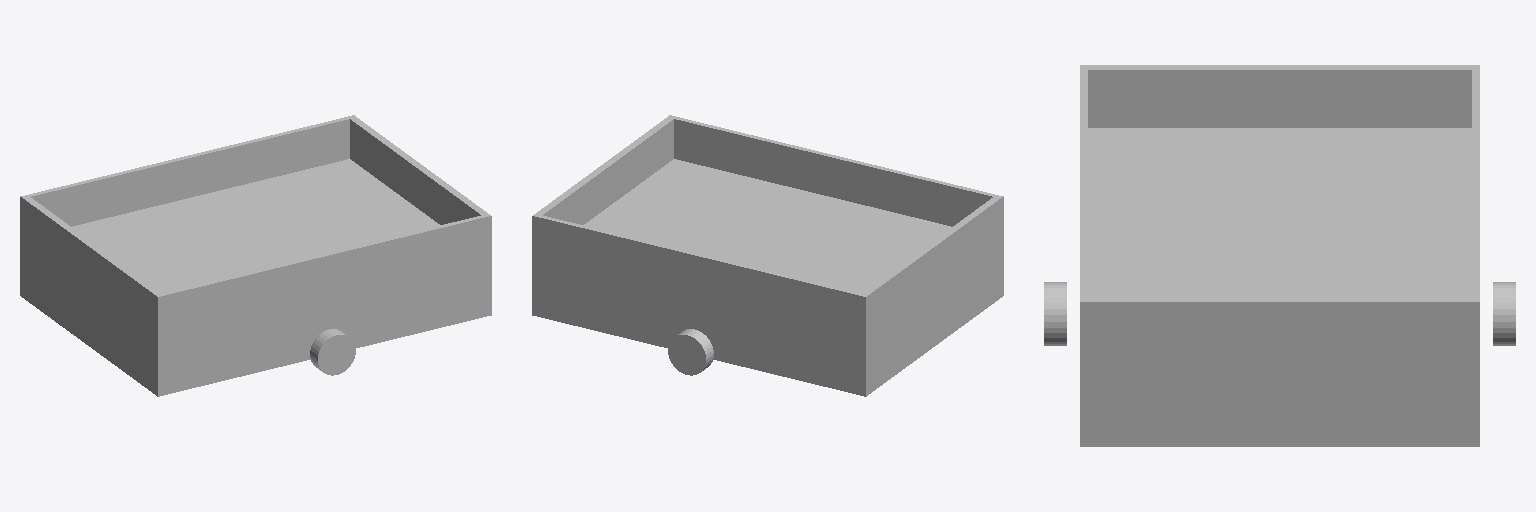
URDF robot description (AGVv3):
<robot name="AGVv3" version="1.0">
  <joint name="LWeel_link_joint" type="continuous">
    <limit lower="0.00000" upper="0.00000" effort="0.00000" velocity="0.00000" />
    <origin rpy="-1.57080 0.00000 0.00000" xyz="0.00000 0.14000 0.02000" />
    <parent link="MainBody_link" />
    <child link="LWeel_link" />
    <axis xyz="0.00000 0.00000 1.00000" />
  </joint>
  <joint name="RWeel_link_joint" type="continuous">
    <limit lower="0.00000" upper="0.00000" effort="0.00000" velocity="0.00000" />
    <origin rpy="1.57080 0.00000 0.00000" xyz="0.00000 -0.14000 0.02000" />
    <parent link="MainBody_link" />
    <child link="RWeel_link" />
    <axis xyz="0.00000 0.00000 1.00000" />
  </joint>
  <link name="MainBody_link">
    <collision name="MainBody_collision">
      <origin rpy="0.00000 0.00000 0.00000" xyz="0.00000 0.00000 0.06000" />
      <geometry>
        <box size="0.35177 0.25126 0.10051" />
      </geometry>
    </collision>
    <inertial>
      <inertia ixx="0.06103" ixy="0.00000" ixz="0.00000" iyy="0.11154" iyz="0.00000" izz="0.15573" />
      <origin rpy="0.00000 0.00000 0.00000" xyz="0.00000 0.00000 0.00000" />
      <mass value="10.00000" />
    </inertial>
    <visual name="MainBody">
      <material name="Material" />
      <origin rpy="0.00000 0.00000 0.00000" xyz="0.00000 0.00000 0.00000" />
      <geometry>
        <mesh filename="../meshes/stl/Cube.026.stl" scale="1 1 1" />
      </geometry>
    </visual>
  </link>
  <link name="LWeel_link">
    <collision name="LWeel_collision">
      <origin rpy="3.14159 0.00000 0.00000" xyz="0.00000 -0.00000 0.00000" />
      <geometry>
        <cylinder radius="0.02023" length="0.01349" />
      </geometry>
    </collision>
    <inertial>
      <inertia ixx="0.00006" ixy="0.00000" ixz="0.00000" iyy="0.00010" iyz="-0.00000" izz="0.00006" />
      <origin rpy="0.00000 0.00000 0.00000" xyz="0.00000 -0.00000 0.00000" />
      <mass value="0.50000" />
    </inertial>
    <visual name="LWeel">
      <material name="Material.001" />
      <origin rpy="0.00000 0.00000 0.00000" xyz="0.00000 0.00000 0.00000" />
      <geometry>
        <cylinder radius="0.02011" length="0.014" />
      </geometry>
    </visual>
  </link>
  <link name="RWeel_link">
    <collision name="RWeel_collision">
      <origin rpy="0.00000 0.00000 0.00000" xyz="0.00000 -0.00000 0.00000" />
      <geometry>
        <cylinder radius="0.02025" length="0.01351" />
      </geometry>
    </collision>
    <inertial>
      <inertia ixx="0.00006" ixy="0.00000" ixz="0.00000" iyy="0.00010" iyz="-0.00000" izz="0.00006" />
      <origin rpy="0.00000 0.00000 0.00000" xyz="0.00000 -0.00000 0.00000" />
      <mass value="0.50000" />
    </inertial>
    <visual name="RWeel">
      <material name="Material.002" />
      <origin rpy="0.00000 0.00000 0.00000" xyz="0.00000 -0.00000 0.00000" />
      <geometry>
        <cylinder radius="0.02011" length="0.014" />
      </geometry>
    </visual>
  </link>
  <material name="Material">
    <texture filename="../../BodyTexture.png" />
    <color rgba="0.80000 0.80000 0.80000 1.00000" />
  </material>
  <material name="Material.001">
    <texture filename="../../AGVv3Weel.png" />
    <color rgba="0.80000 0.80000 0.80000 1.00000" />
  </material>
  <material name="Material.002">
    <texture filename="../../AGVv3Weel.png" />
    <color rgba="0.80000 0.80000 0.80000 1.00000" />
  </material>
</robot>

--- Render facts (derived) ---
3 views of the same robot in one strip: view 1: azimuth 30°, elevation 25°; view 2: azimuth 150°, elevation 25°; view 3: azimuth 270°, elevation 25° (orthographic).
Model AGVv3 with 3 links and 2 joints (2 continuous), rooted at MainBody_link, posed all joints at 0.
Visible links, largest first — view 1: MainBody_link, RWeel_link; view 2: MainBody_link, LWeel_link; view 3: MainBody_link, LWeel_link, RWeel_link.
Boxes of the visible links, x1=… form: MainBody_link: x1=20, y1=115, x2=491, y2=396; RWeel_link: x1=310, y1=329, x2=355, y2=375; MainBody_link: x1=532, y1=115, x2=1003, y2=396; LWeel_link: x1=668, y1=329, x2=713, y2=375; MainBody_link: x1=1080, y1=65, x2=1479, y2=446; LWeel_link: x1=1493, y1=282, x2=1515, y2=345; RWeel_link: x1=1044, y1=282, x2=1066, y2=345.
Bounding box of the posed robot: 0.35 × 0.294 × 0.1101 m (x, y, z).
1 mesh visuals loaded from 1 distinct referenced files (1 binary STL).
